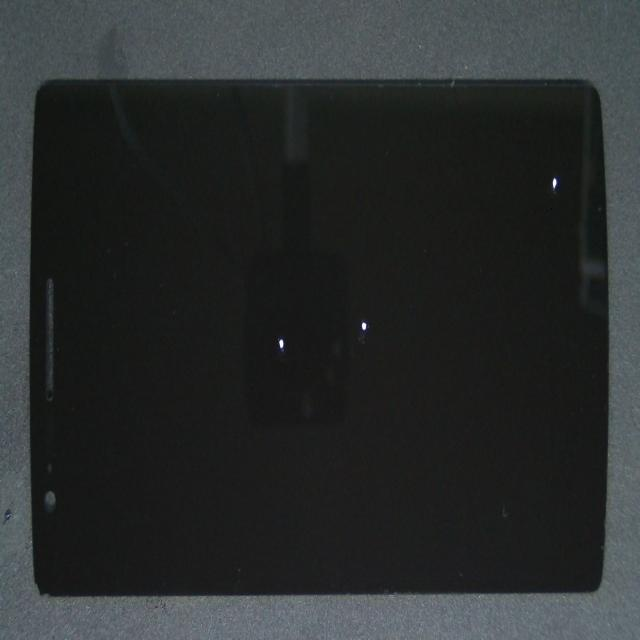stain: (169, 198, 508, 594), (130, 120, 405, 517), (261, 54, 640, 271)
